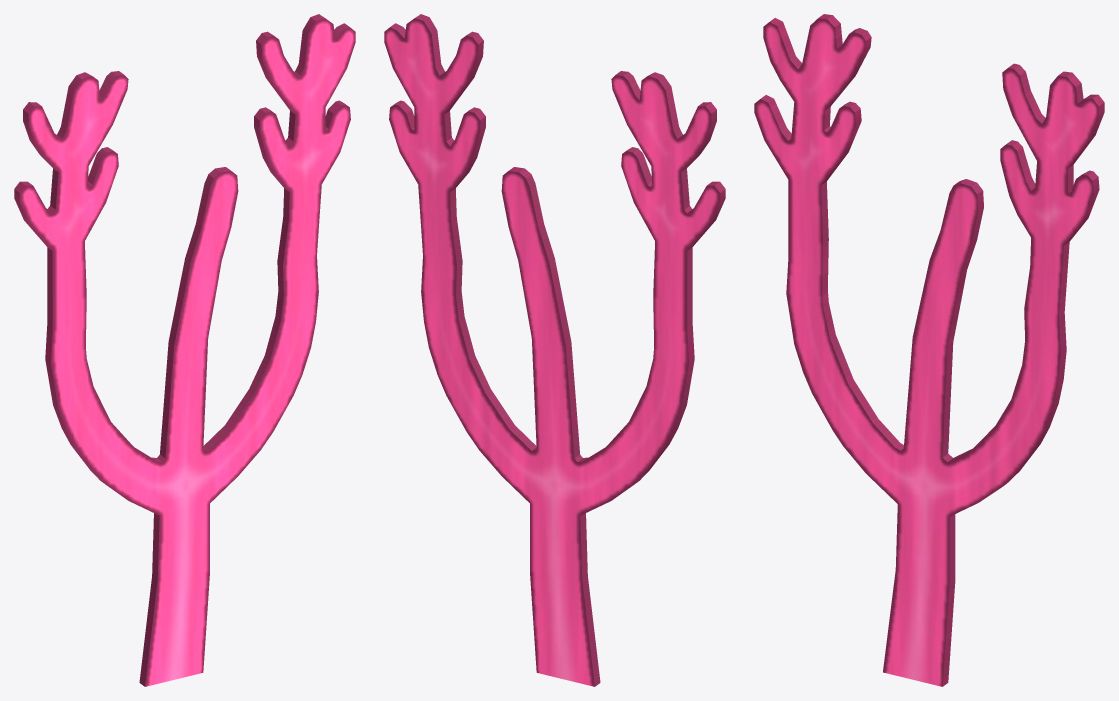
Rendered from coral-2.glb.
3 views of the same model, side by side, from view 1: azimuth 30°, elevation 25°; view 2: azimuth 150°, elevation 25°; view 3: azimuth 330°, elevation 25° (orthographic). The views are drawn at different scales.
Parts seen in each view (by area): view 1: coral-2; view 2: coral-2; view 3: coral-2.
Part boxes in pixels (left/top/right/bottom): coral-2: left=14, top=14, right=355, bottom=686; coral-2: left=384, top=14, right=725, bottom=686; coral-2: left=754, top=14, right=1104, bottom=686.
Size of the model in its own units: 0.692 by 1.23 by 0.02.
Materials: 1 (1 with a texture image).
